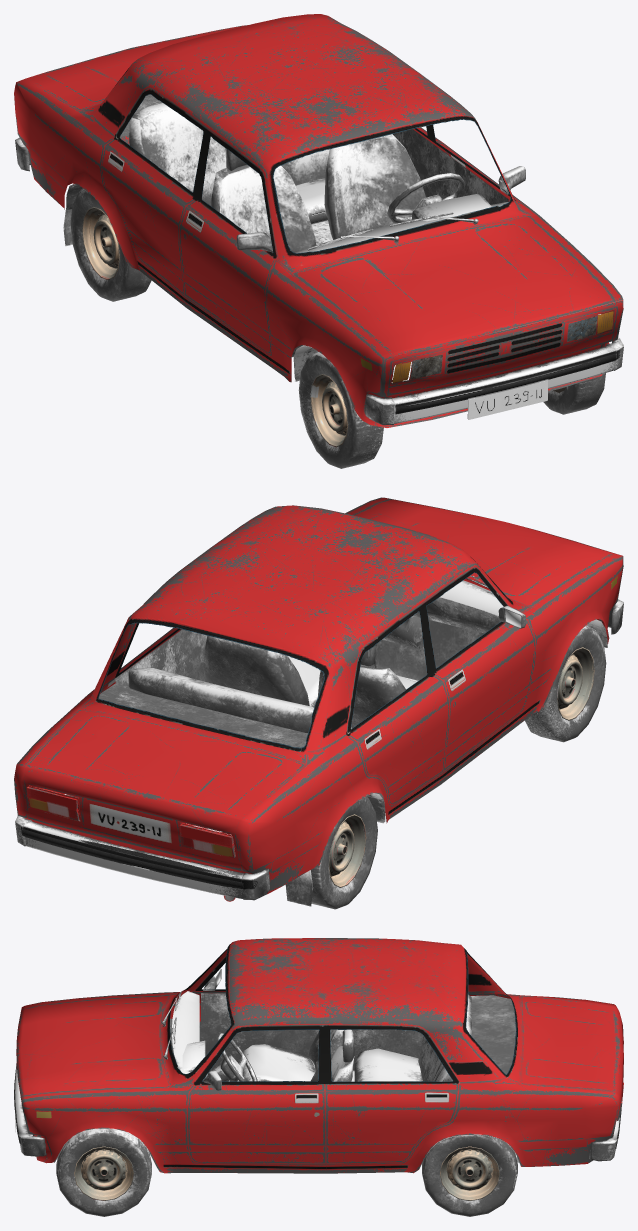
Rendered from v_lada_hd.glb.
The picture shows the model from 3 angles, top to bottom: view 1: azimuth 30°, elevation 25°; view 2: azimuth 150°, elevation 25°; view 3: azimuth 270°, elevation 25°; orthographic projection. The views are drawn at different scales.
Visible parts, largest first — view 1: lada_riva_sasija_lp, lada_riva_body_lp; view 2: lada_riva_sasija_lp, lada_riva_body_lp; view 3: lada_riva_sasija_lp, lada_riva_body_lp.
Part boxes in pixels (x1=…): lada_riva_sasija_lp: x1=14, y1=14, x2=623, y2=447; lada_riva_body_lp: x1=15, y1=94, x2=623, y2=468; lada_riva_sasija_lp: x1=14, y1=497, x2=623, y2=901; lada_riva_body_lp: x1=15, y1=575, x2=623, y2=909; lada_riva_sasija_lp: x1=16, y1=938, x2=623, y2=1200; lada_riva_body_lp: x1=14, y1=968, x2=621, y2=1216.
Size of the model in its own units: 177 by 148 by 406.
2 materials, 2 textured.
